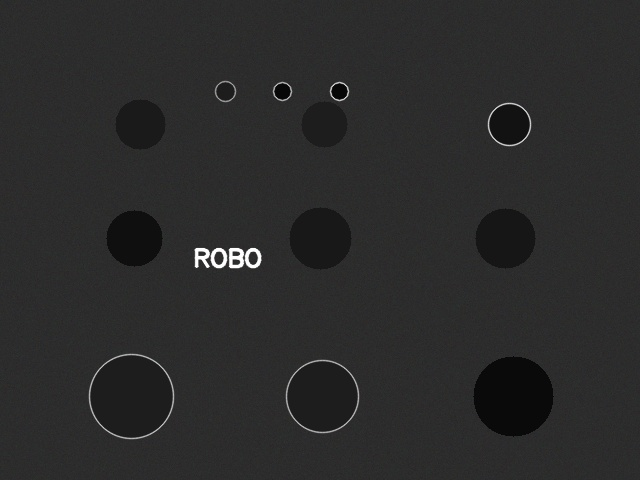hole: (89, 354, 173, 438), (473, 356, 553, 436), (286, 360, 358, 432), (289, 207, 351, 269), (475, 208, 535, 268), (106, 210, 162, 266), (115, 99, 165, 149), (301, 101, 347, 147), (488, 103, 530, 145), (215, 81, 235, 101), (273, 82, 291, 100), (330, 82, 348, 100)
